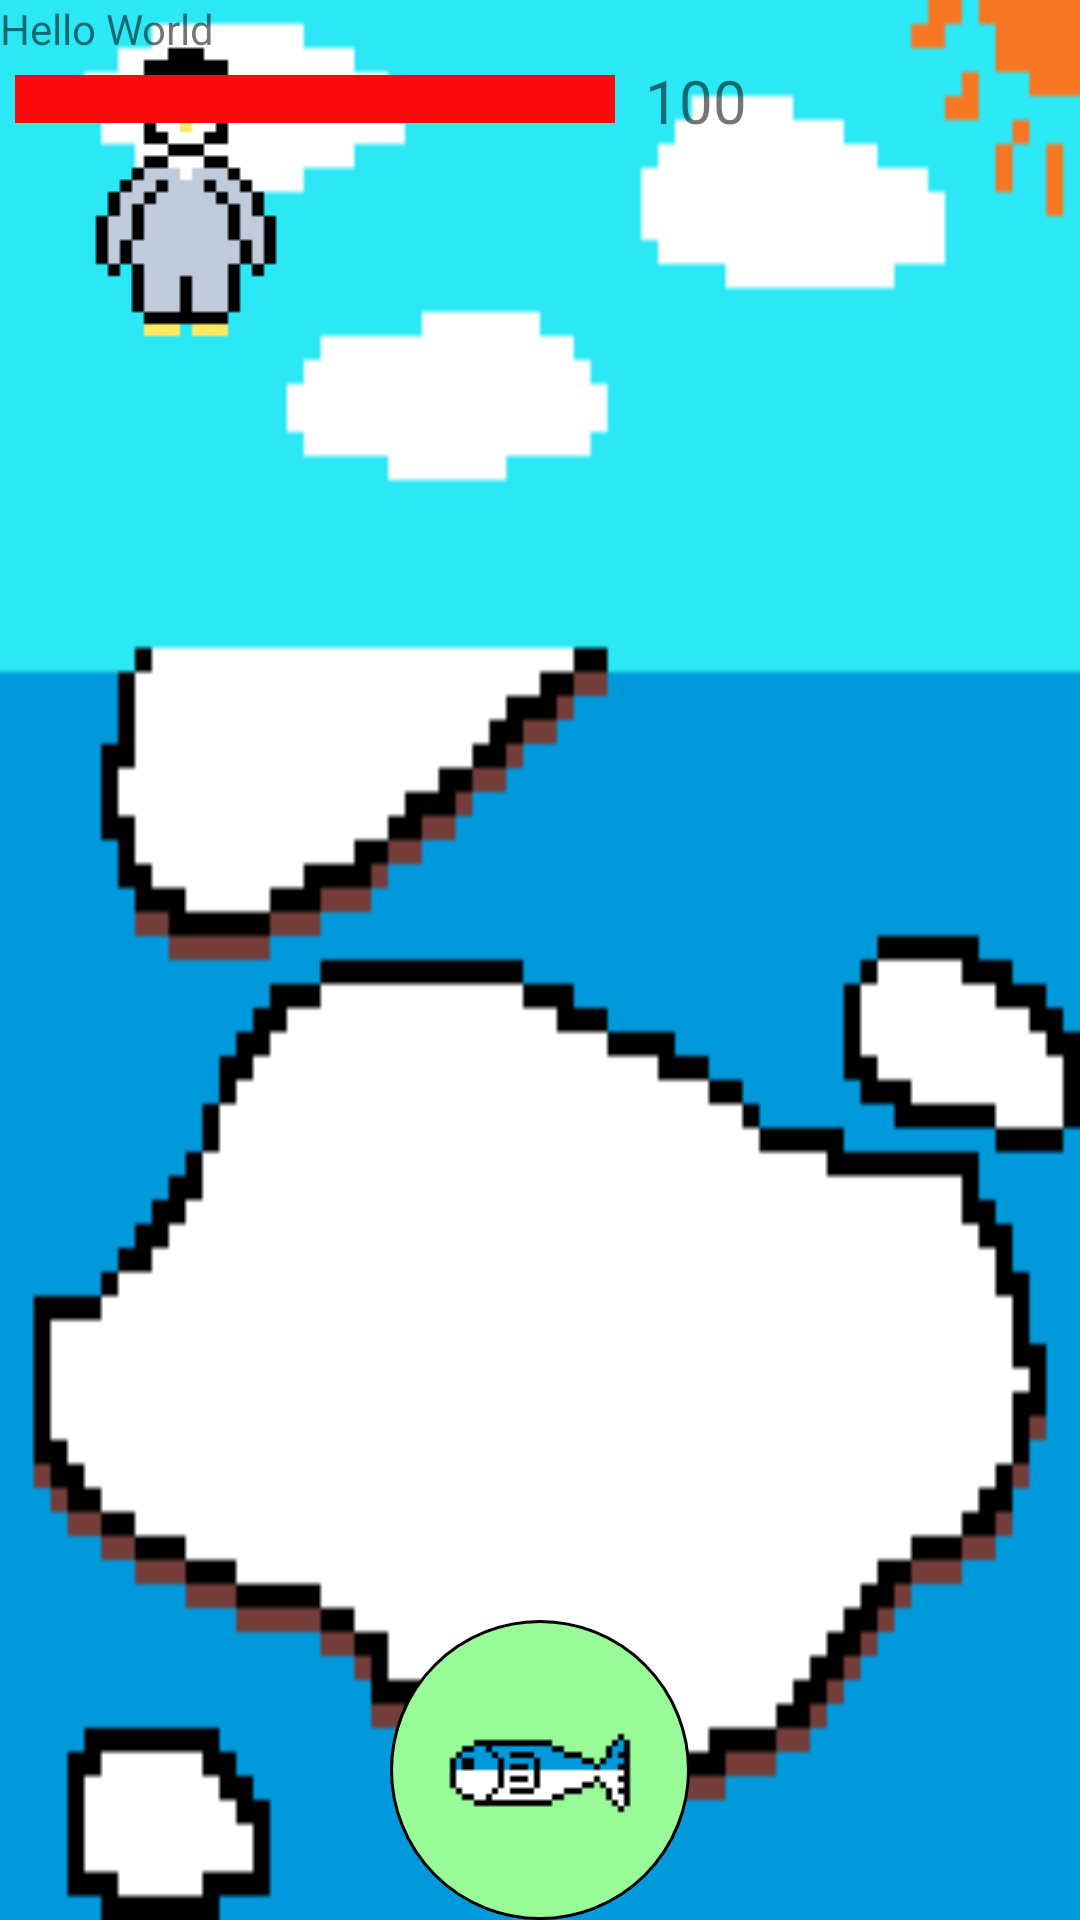

Named icons in this screenshot (1080px x 1920px) and their centers, [x,y]:
fish: [540,1770]
